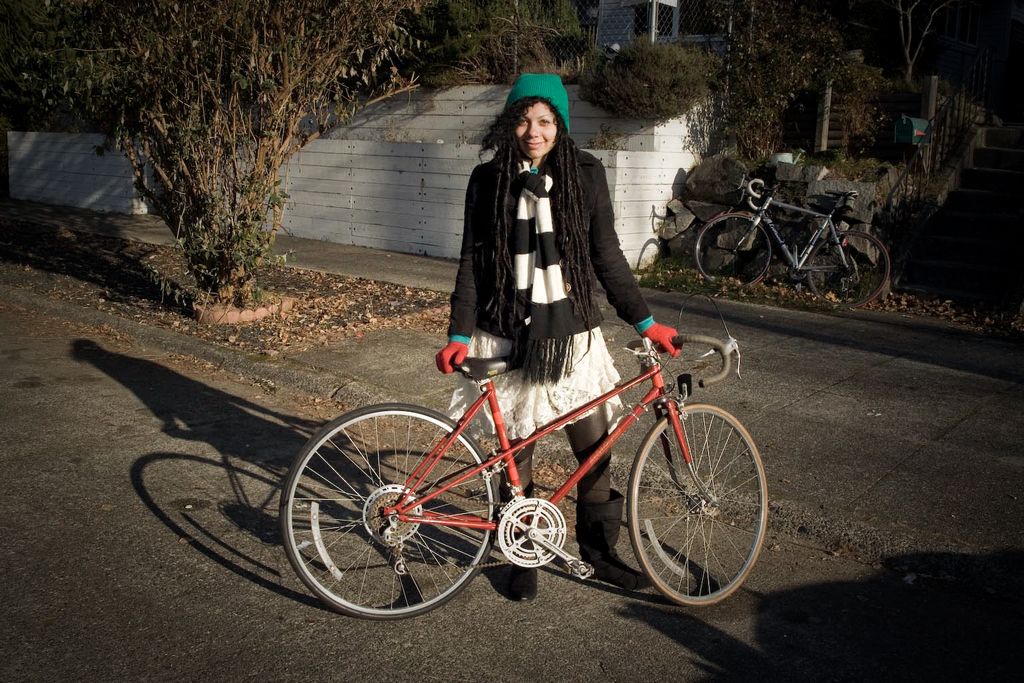Bike: (256, 343, 788, 591)
